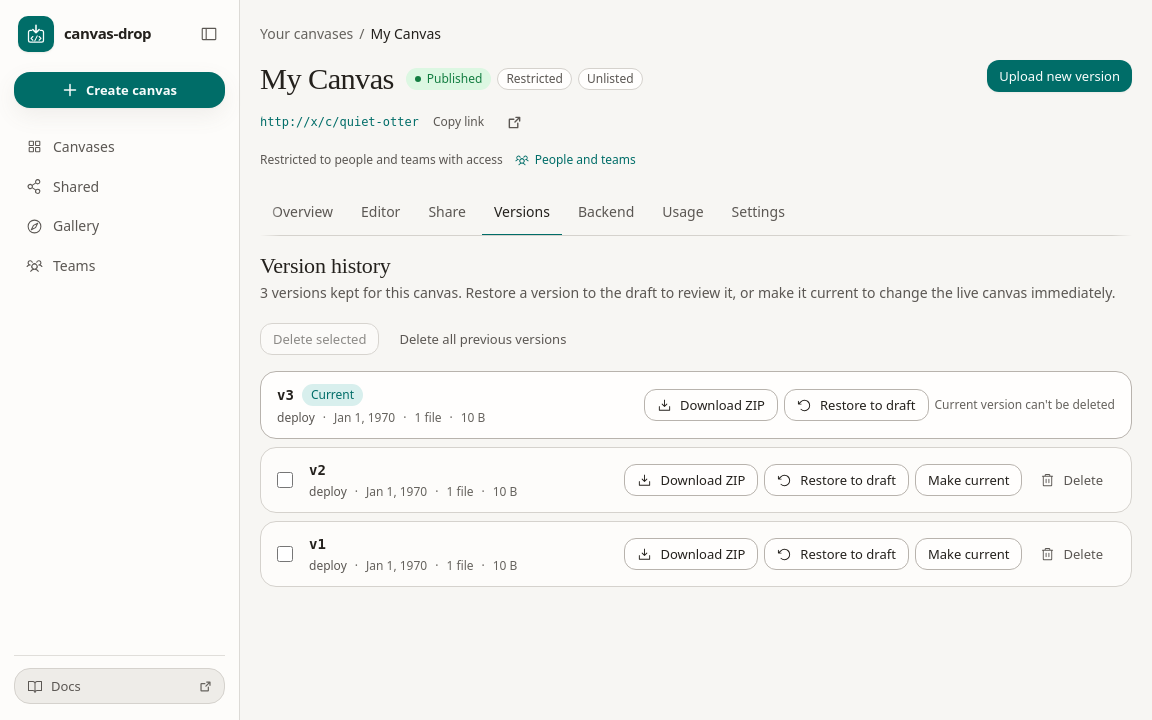
Test case: Version cleanup selection › confirms the previewed IDs, excludes current history and reports a skipped version
Check: the text "v3" is shown, box [277, 385, 294, 405]
Click the button "Delete all previous versions" at (483, 339), box [387, 323, 578, 355]
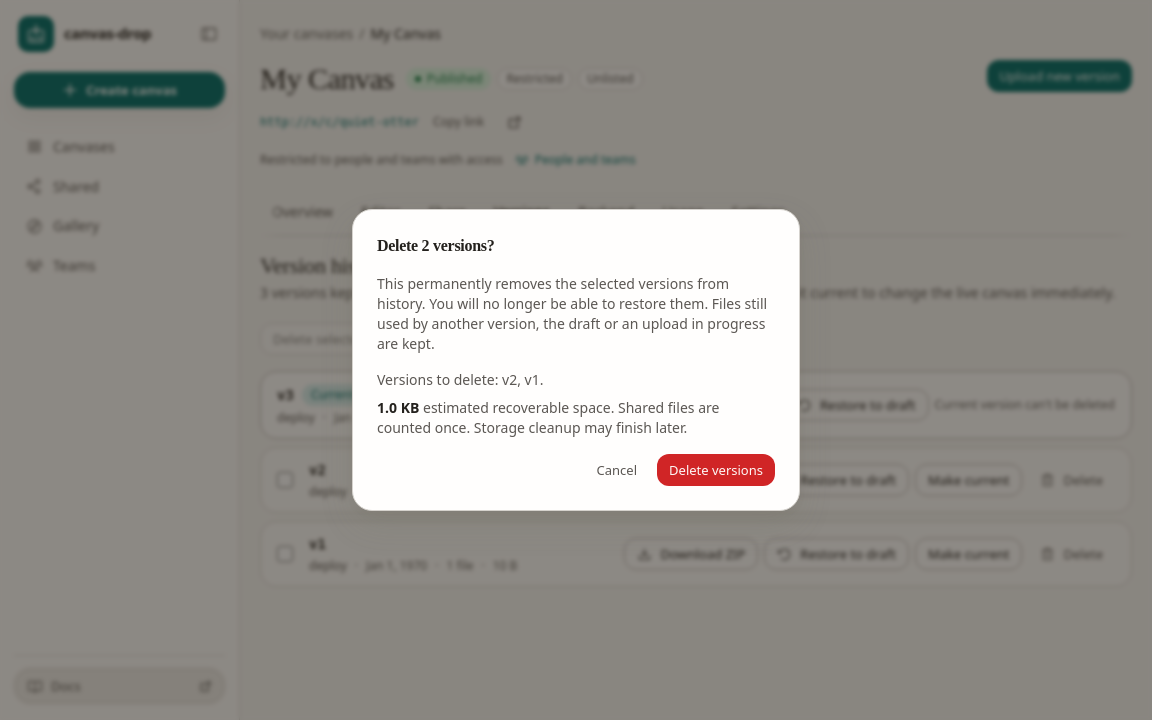
Check: the button "Delete versions" is enabled
Check: the text "estimated recoverable space" is shown, box [377, 398, 719, 437]
Click the button "Delete versions" at (716, 470), box [657, 454, 775, 486]
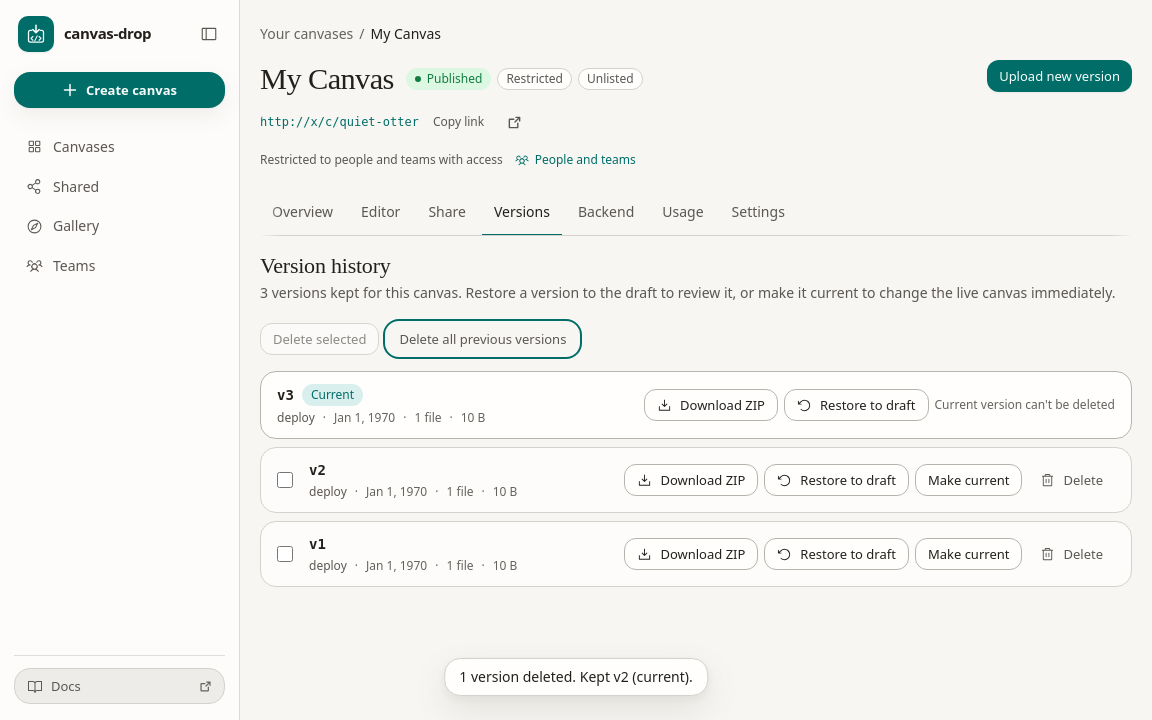
Check: the text "1 version deleted. Kept v2 (current)." is shown, box [444, 658, 708, 696]
